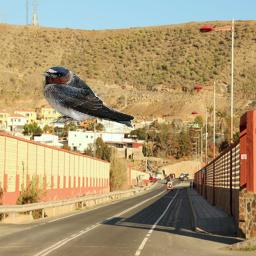Swallow: (39, 65, 136, 129)
